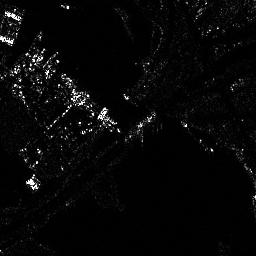ship: (123, 110, 156, 143)
